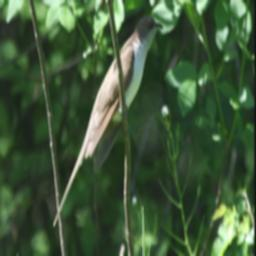Cuckoo: (51, 14, 163, 230)
